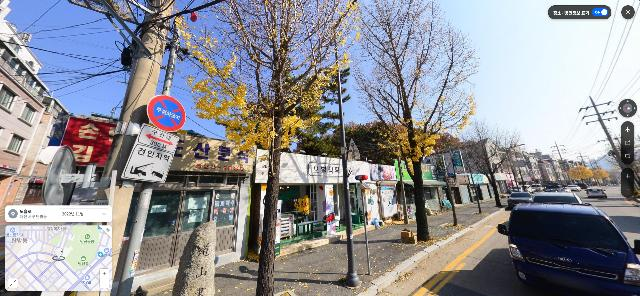ginkgo: (176, 0, 365, 296), (346, 0, 482, 241), (236, 65, 351, 152)
other: (460, 118, 524, 208)
